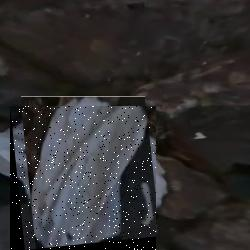restaffald: (10, 106, 156, 250)
